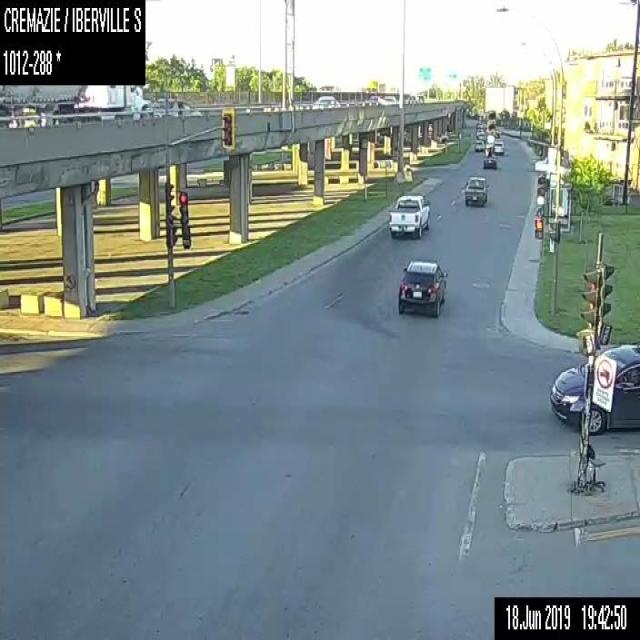vehicle: (549, 341, 639, 436), (0, 83, 151, 128), (396, 258, 448, 318), (387, 192, 429, 237), (146, 96, 202, 118), (463, 173, 487, 207), (313, 95, 340, 108), (483, 153, 496, 168), (380, 94, 398, 104), (494, 139, 504, 152), (368, 95, 380, 104), (474, 139, 484, 149), (477, 131, 485, 141), (476, 128, 484, 137), (494, 128, 501, 137), (403, 94, 409, 103), (475, 121, 482, 128), (417, 95, 423, 102), (410, 95, 416, 102)
